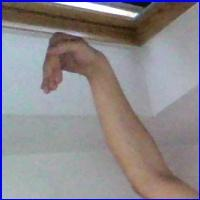del: (37, 30, 108, 98)
